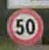limite 50: (5, 8, 44, 45)
